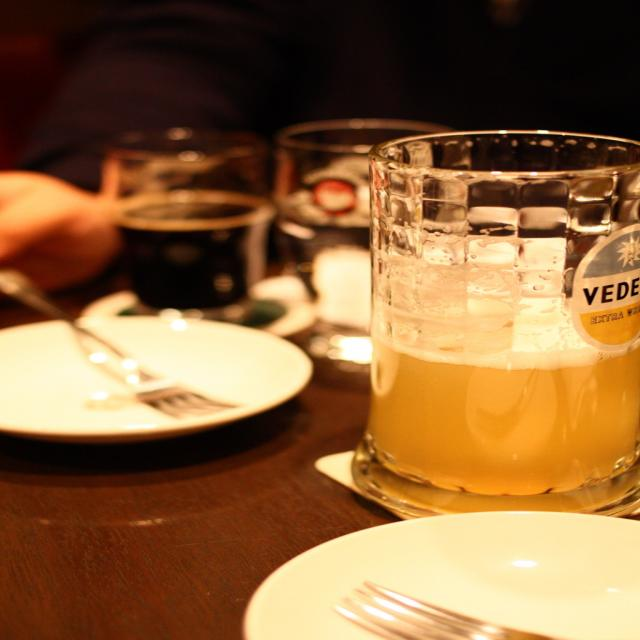non-organic waste: (223, 509, 640, 640), (3, 296, 311, 472)
